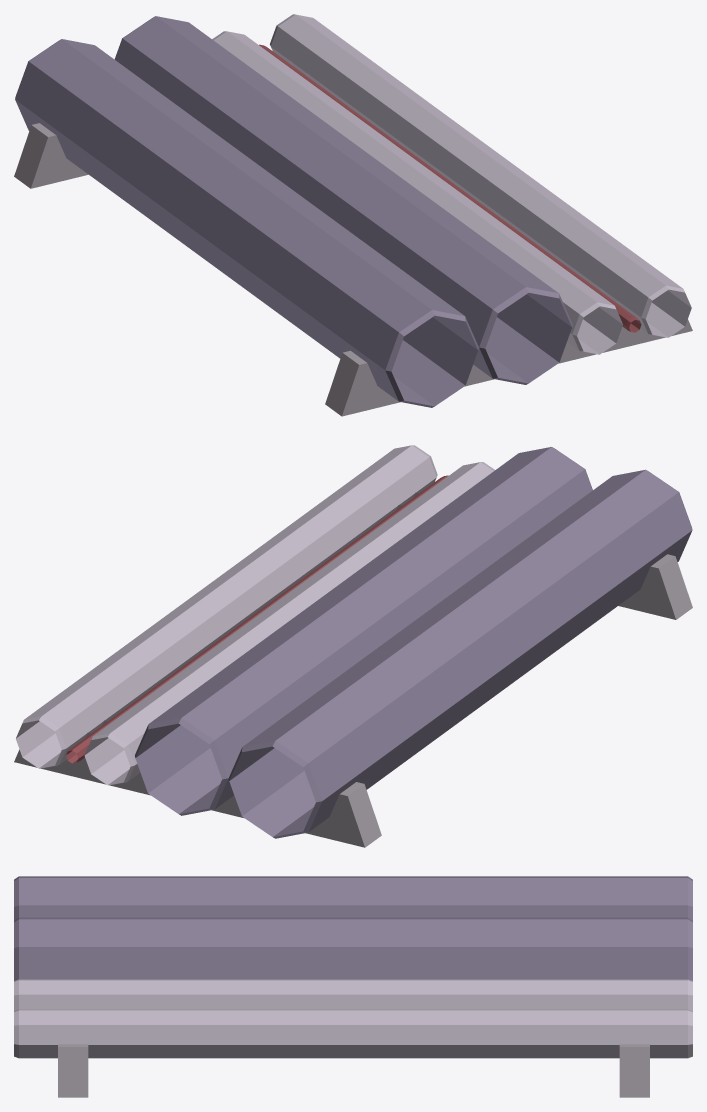
The model's file is Tubos 2.fbx.
3 views of the same model, one above another, from view 1: azimuth 30°, elevation 25°; view 2: azimuth 150°, elevation 25°; view 3: azimuth 270°, elevation 25° (orthographic). The views are drawn at different scales.
Parts seen in each view (by area): view 1: Cube.004; view 2: Cube.004; view 3: Cube.004.
Boxes of the visible parts, box(x1,y1,x2,y2) form: Cube.004: box(14, 14, 692, 416); Cube.004: box(14, 445, 692, 847); Cube.004: box(14, 876, 692, 1097).
Size of the model in its own units: 1231 by 354 by 2282.
